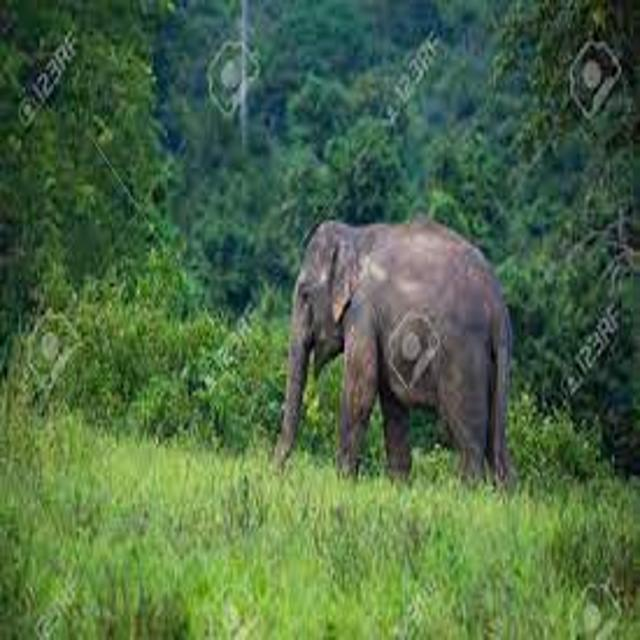elephant: (242, 191, 549, 530)
